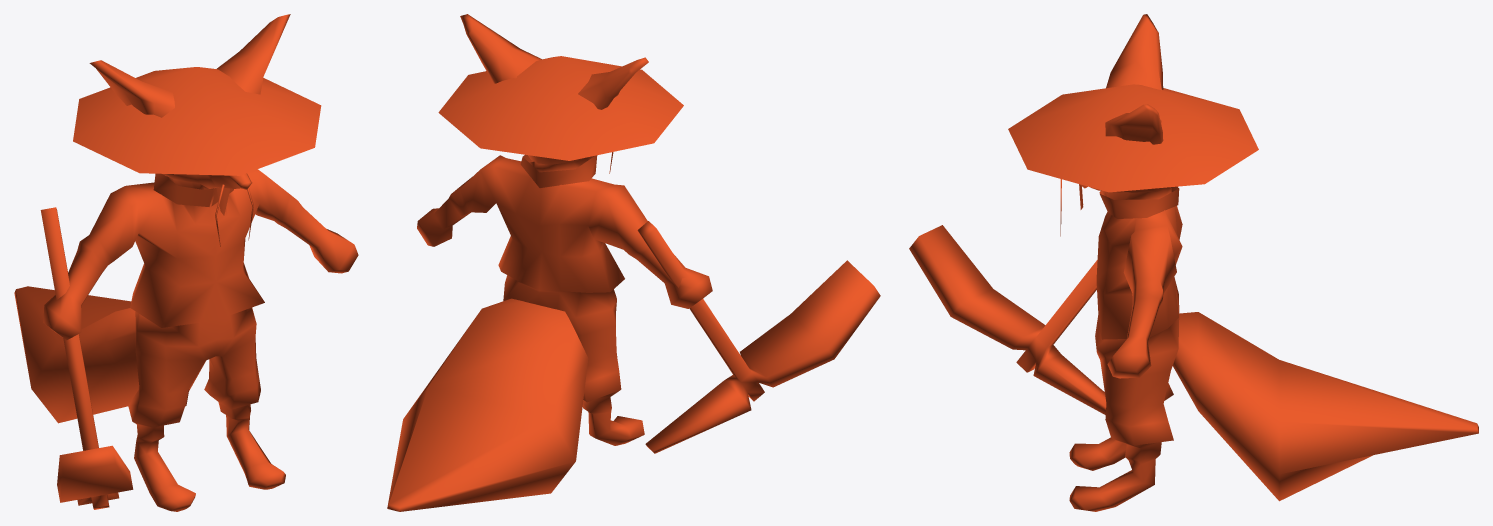
Rendered from worker_export.fbx.
3 views of the same model, side by side, from view 1: azimuth 30°, elevation 25°; view 2: azimuth 150°, elevation 25°; view 3: azimuth 270°, elevation 25° (orthographic). The views are drawn at different scales.
Parts seen in each view (by area): view 1: body_lp, kirk_lp; view 2: body_lp, kirk_lp; view 3: body_lp, kirk_lp.
Part boxes in pixels (x1,y1,x2,y2): body_lp: [14, 14, 358, 511]; kirk_lp: [40, 207, 133, 509]; body_lp: [387, 14, 712, 511]; kirk_lp: [637, 221, 880, 453]; body_lp: [1008, 14, 1478, 511]; kirk_lp: [909, 186, 1177, 414].
Bounding box in the file's own units: 295 × 318 × 383.
